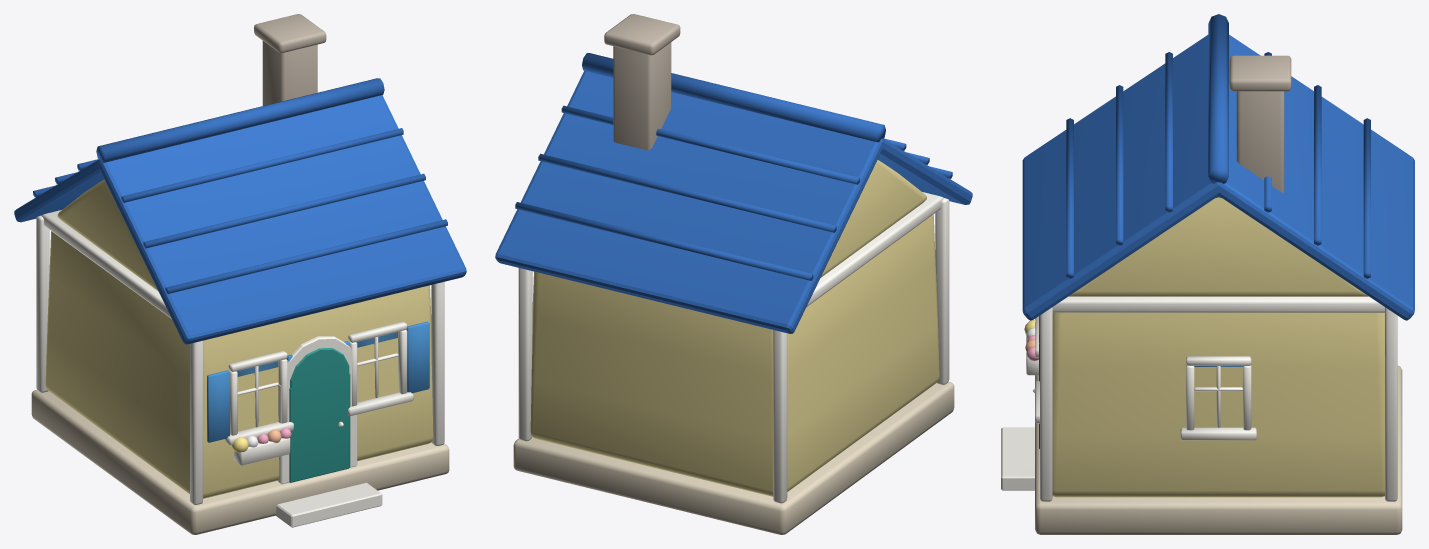
Rendered from house_d.glb.
3 renders of one model, left to right at view 1: azimuth 30°, elevation 25°; view 2: azimuth 150°, elevation 25°; view 3: azimuth 270°, elevation 25°, orthographic. The views are drawn at different scales.
Visible parts, largest first — view 1: House_D_Roof, House_D_Wall, House_D_Plinth, House_D_RoofTiles, House_D_Trim, House_D_Door, House_D_WindowTrim, House_D_DoorFrame, House_D_Chimney, House_D_Shutters, House_D_Flowers; view 2: House_D_Wall, House_D_Roof, House_D_Plinth, House_D_RoofTiles, House_D_Trim, House_D_Chimney; view 3: House_D_Wall, House_D_Roof, House_D_Plinth, House_D_Trim, House_D_RoofTiles, House_D_Chimney, House_D_WindowTrim, House_D_DoorFrame.
Part boxes in pixels (<box>): House_D_Roof: <box>14,95,466,344</box>; House_D_Wall: <box>45,179,433,498</box>; House_D_Plinth: <box>31,390,449,534</box>; House_D_RoofTiles: <box>33,78,447,294</box>; House_D_Trim: <box>36,210,444,504</box>; House_D_Door: <box>289,348,350,482</box>; House_D_WindowTrim: <box>225,321,413,465</box>; House_D_DoorFrame: <box>275,336,382,527</box>; House_D_Chimney: <box>254,14,326,105</box>; House_D_Shutters: <box>207,321,429,442</box>; House_D_Flowers: <box>231,428,291,452</box>; House_D_Wall: <box>530,160,939,496</box>; House_D_Roof: <box>495,71,972,333</box>; House_D_Plinth: <box>513,381,954,534</box>; House_D_RoofTiles: <box>515,53,952,280</box>; House_D_Trim: <box>518,192,949,503</box>; House_D_Chimney: <box>604,14,680,150</box>; House_D_Wall: <box>1052,197,1384,497</box>; House_D_Roof: <box>1022,34,1414,320</box>; House_D_Plinth: <box>1035,365,1402,534</box>; House_D_Trim: <box>1040,296,1397,501</box>; House_D_RoofTiles: <box>1066,14,1370,278</box>; House_D_Chimney: <box>1229,55,1291,192</box>; House_D_WindowTrim: <box>1026,316,1256,440</box>; House_D_DoorFrame: <box>1001,388,1035,490</box>.
Size of the model in its own units: 4.62 by 6.09 by 5.23.
